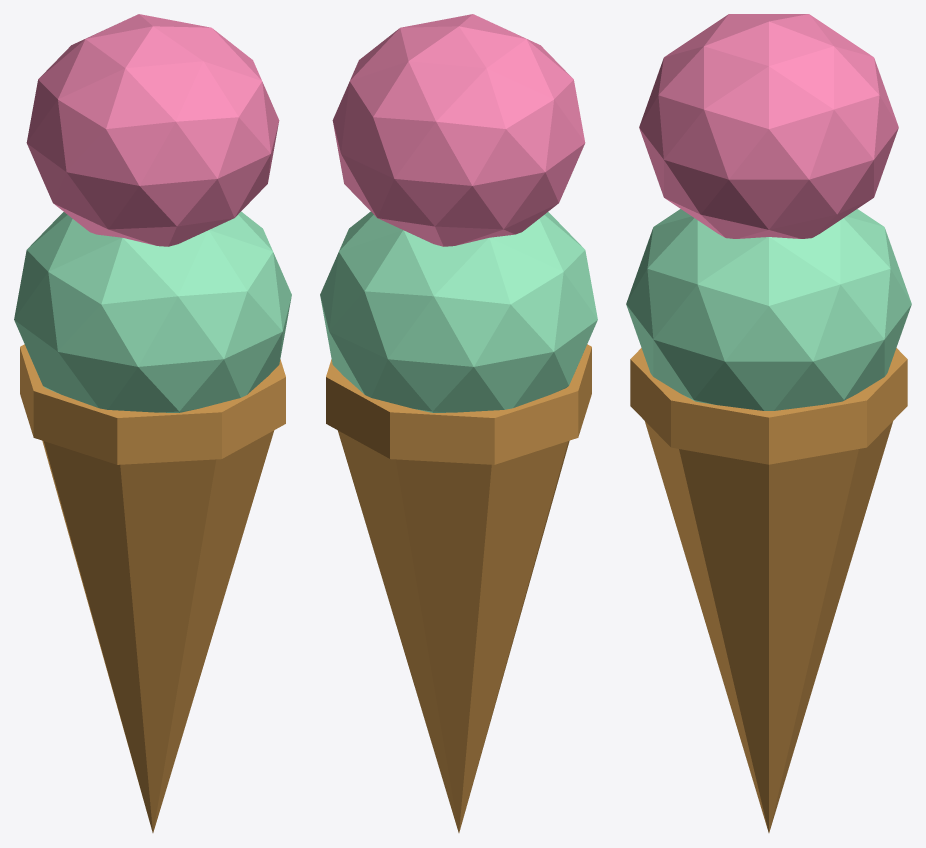
File: ice_cream_cone.glb
The picture shows the model from 3 angles, left to right: view 1: azimuth 30°, elevation 25°; view 2: azimuth 150°, elevation 25°; view 3: azimuth 270°, elevation 25°; orthographic projection.
Visible parts, largest first — view 1: ice_cream_cone; view 2: ice_cream_cone; view 3: ice_cream_cone.
Boxes of the visible parts, bbox=[...] form: ice_cream_cone: bbox=[14, 14, 291, 832]; ice_cream_cone: bbox=[320, 14, 597, 832]; ice_cream_cone: bbox=[626, 14, 911, 832].
Size of the model in its own units: 0.064 by 0.207 by 0.066.
